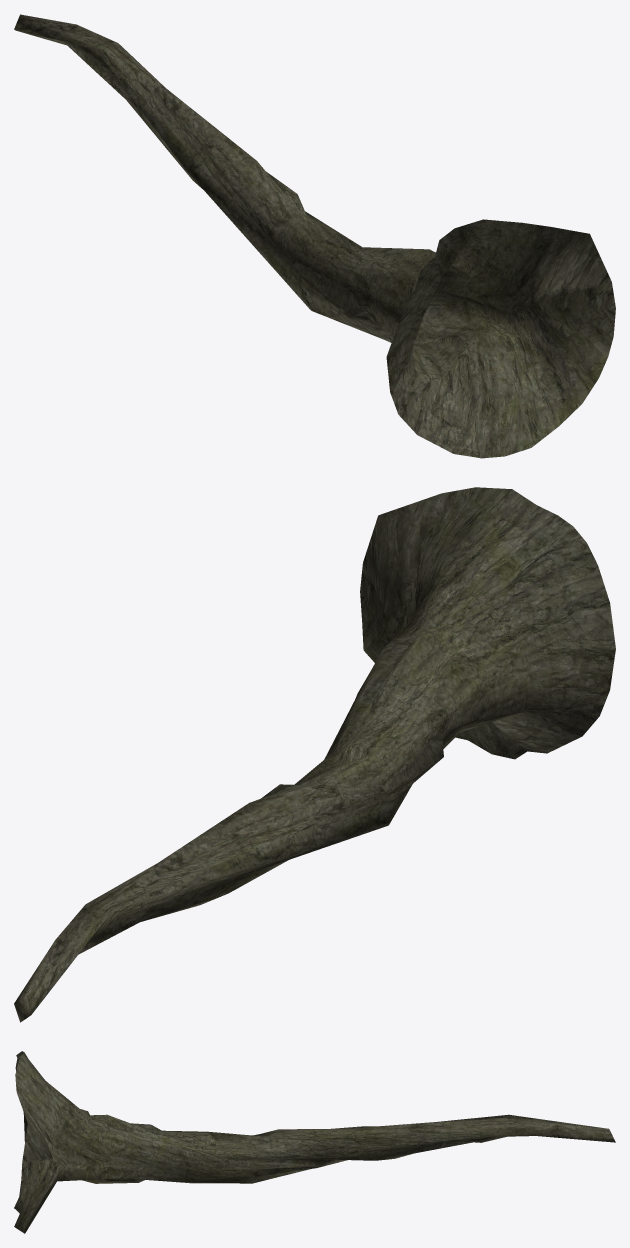
Rendered from TI_Old_Tree_01_LOD_02.fbx.
3 renders of one model, top to bottom at view 1: azimuth 30°, elevation 25°; view 2: azimuth 150°, elevation 25°; view 3: azimuth 270°, elevation 25°, orthographic. The views are drawn at different scales.
Parts seen in each view (by area): view 1: TI_Old_Tree_01_LOD_02; view 2: TI_Old_Tree_01_LOD_02; view 3: TI_Old_Tree_01_LOD_02.
Part boxes in pixels (left/top/right/bottom): TI_Old_Tree_01_LOD_02: left=14, top=14, right=615, bottom=458; TI_Old_Tree_01_LOD_02: left=14, top=487, right=615, bottom=1022; TI_Old_Tree_01_LOD_02: left=14, top=1051, right=615, bottom=1233.
Size of the model in its own units: 3.18 by 3.21 by 11.02.
